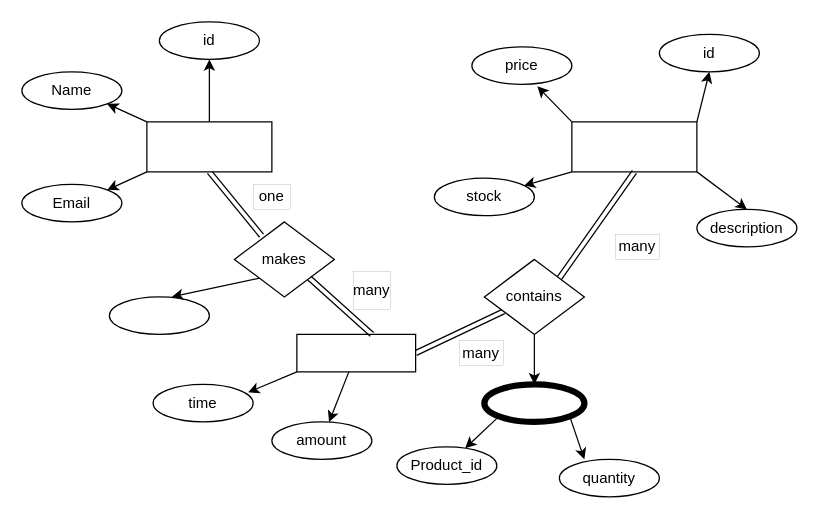
This 819x519 diagram has some shape labels left out. Each missing label, with the centre of its shape:
"Cart" goes at (x=534, y=402).
"Customer" goes at (x=209, y=146).
"Customer_id" goes at (x=158, y=315).
"Product" goes at (x=634, y=146).
"Transaction" goes at (x=356, y=352).
